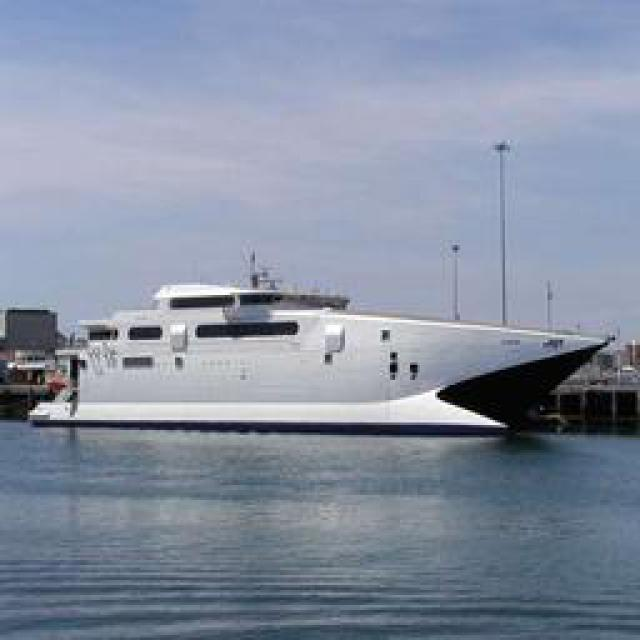Ship: (30, 266, 615, 439)
